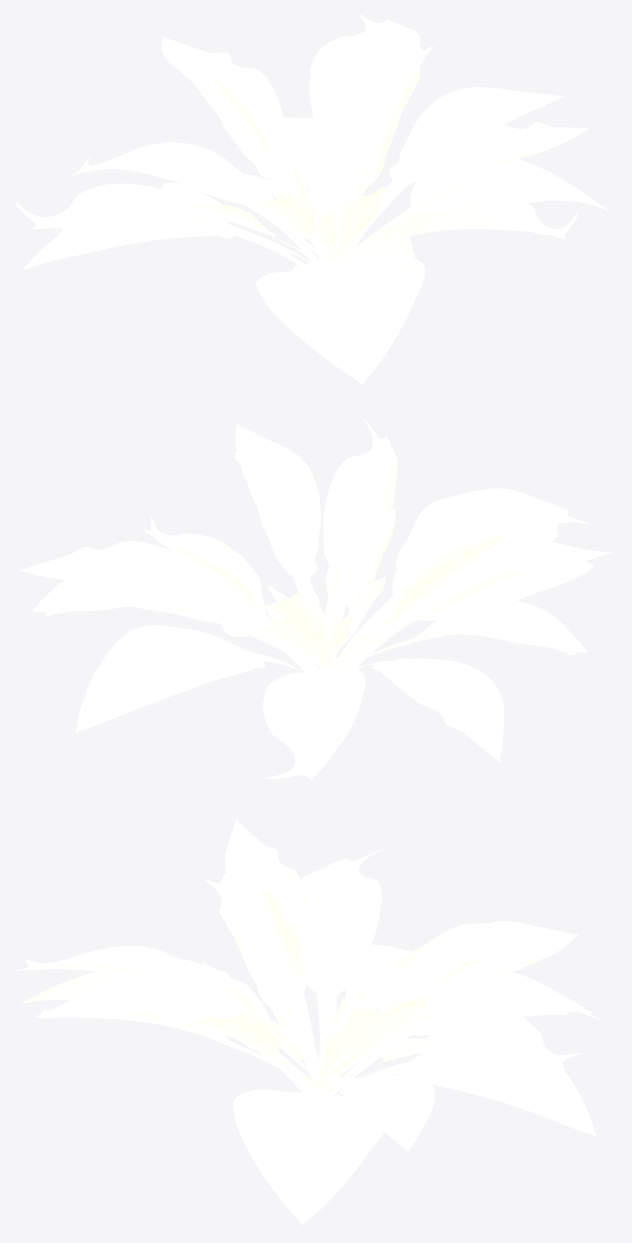
3 renders of one model, top to bottom at view 1: azimuth 30°, elevation 25°; view 2: azimuth 150°, elevation 25°; view 3: azimuth 270°, elevation 25°, orthographic. The views are drawn at different scales.
Parts seen in each view (by area): view 1: SM_DR_Sm_Plant_03_LOD0; view 2: SM_DR_Sm_Plant_03_LOD0; view 3: SM_DR_Sm_Plant_03_LOD0.
Part boxes in pixels (x1,y1,x2,y2): SM_DR_Sm_Plant_03_LOD0: (15, 14, 612, 384); SM_DR_Sm_Plant_03_LOD0: (20, 419, 611, 780); SM_DR_Sm_Plant_03_LOD0: (15, 819, 610, 1224).
Size of the model in its own units: 2.2 by 0.6659 by 2.07.
1 material, 1 textured.
